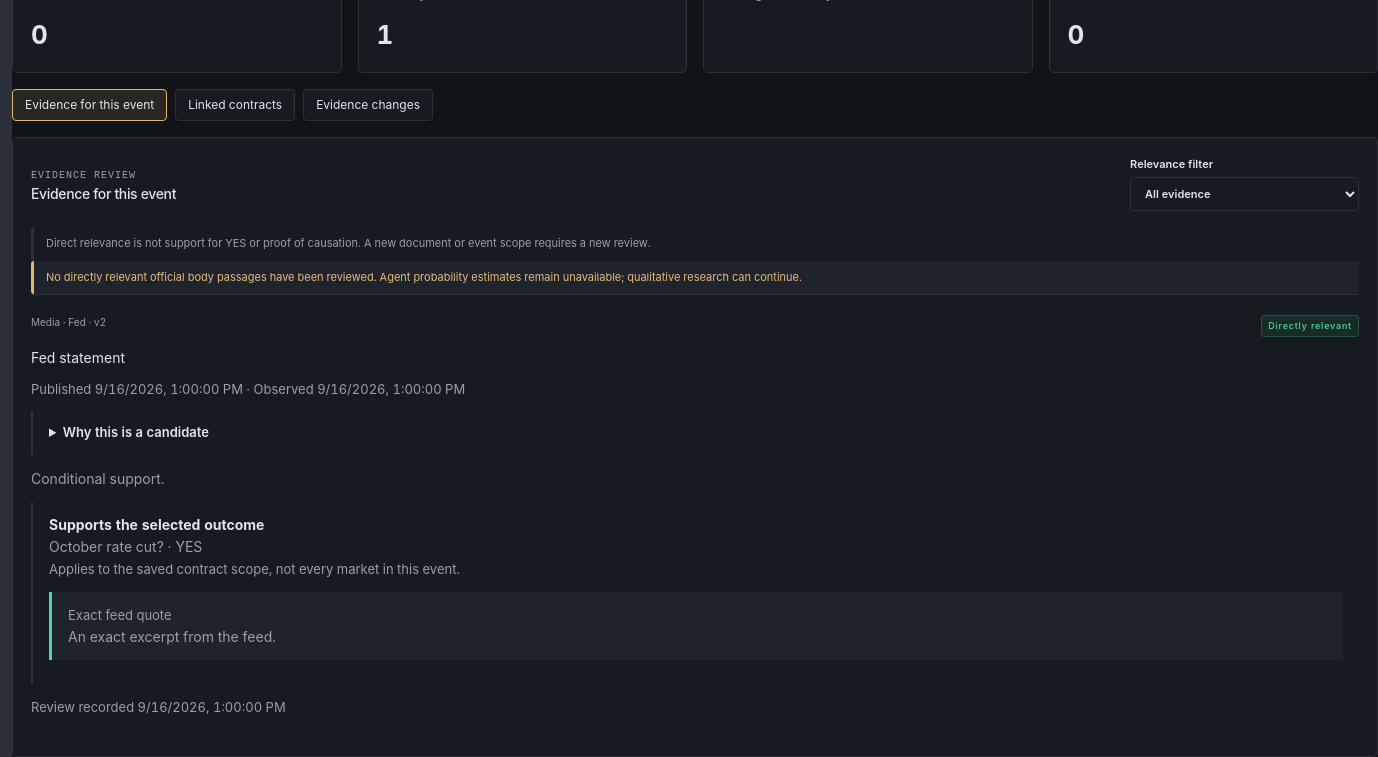
keeps feed-only direct reviews separate from forecast evidence
The image size is (1378, 757).
(page scrolled)
Check: the text "Supports the selected outcome" is shown, box [49,516,264,533]
Check: the text "October rate cut? · YES" is shown, box [49,538,202,555]
Click the heading "Why this is a candidate": click(136, 432) [63,424,209,440]
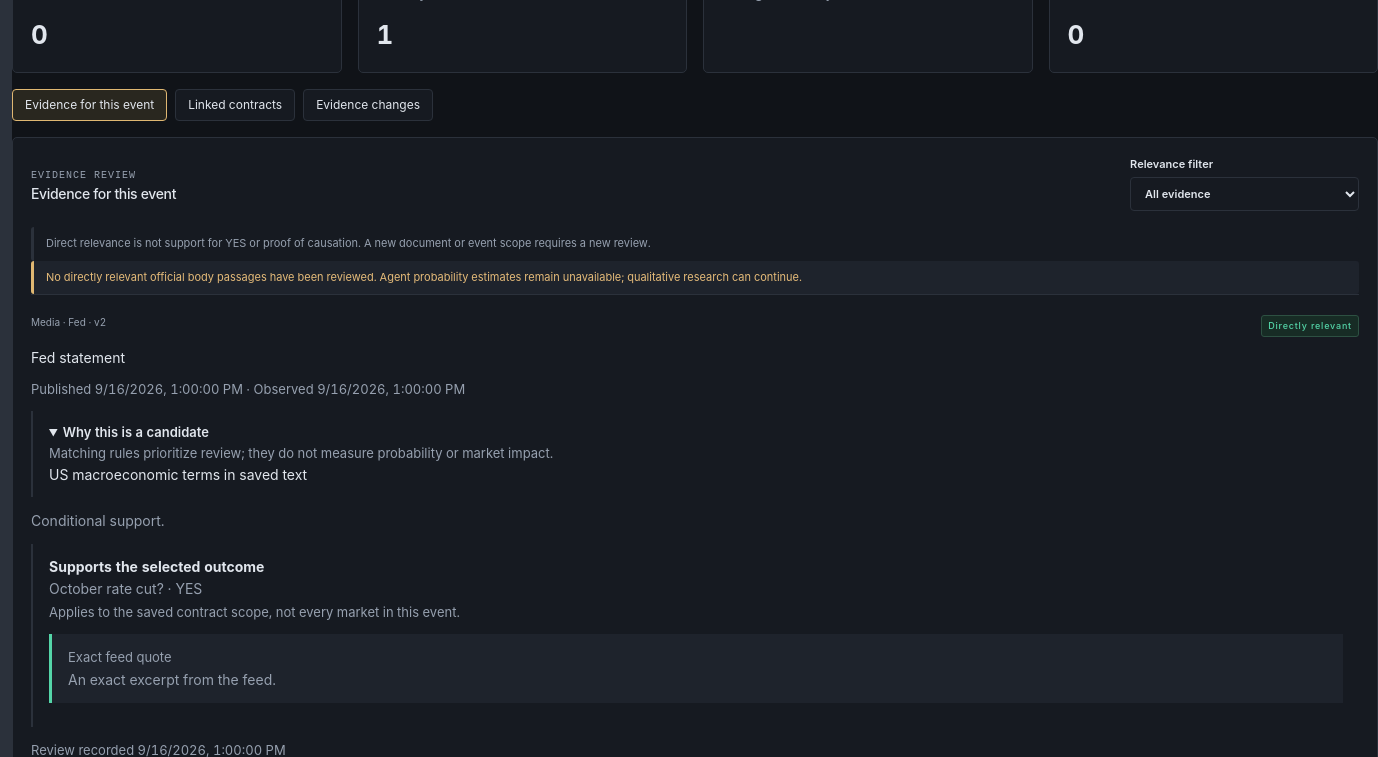
Check: the list item "US macroeconomic terms in saved text" is shown, box [49,466,307,483]
